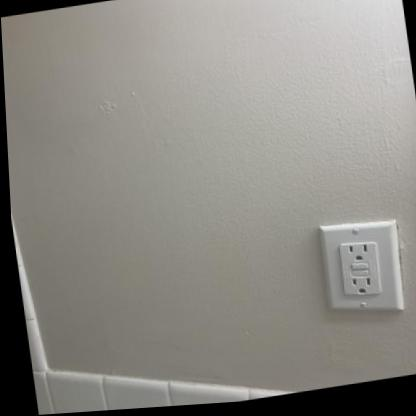OUTLET: (315, 216, 407, 318)
